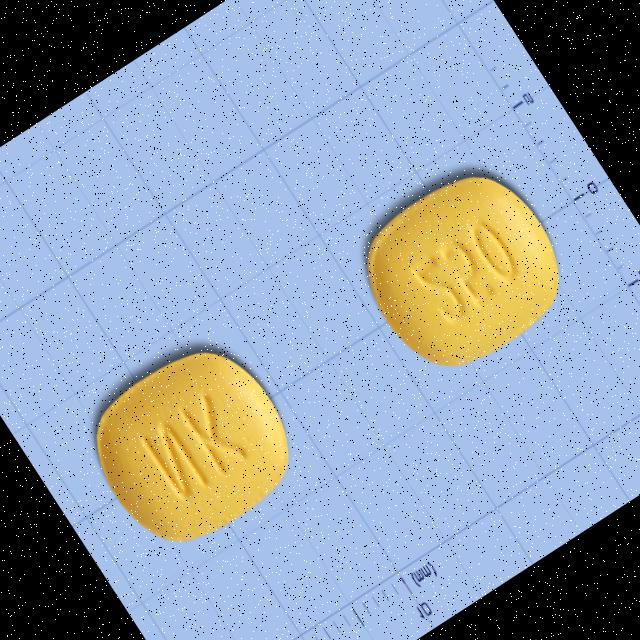Clara: (64, 316, 319, 568), (338, 146, 590, 395)
